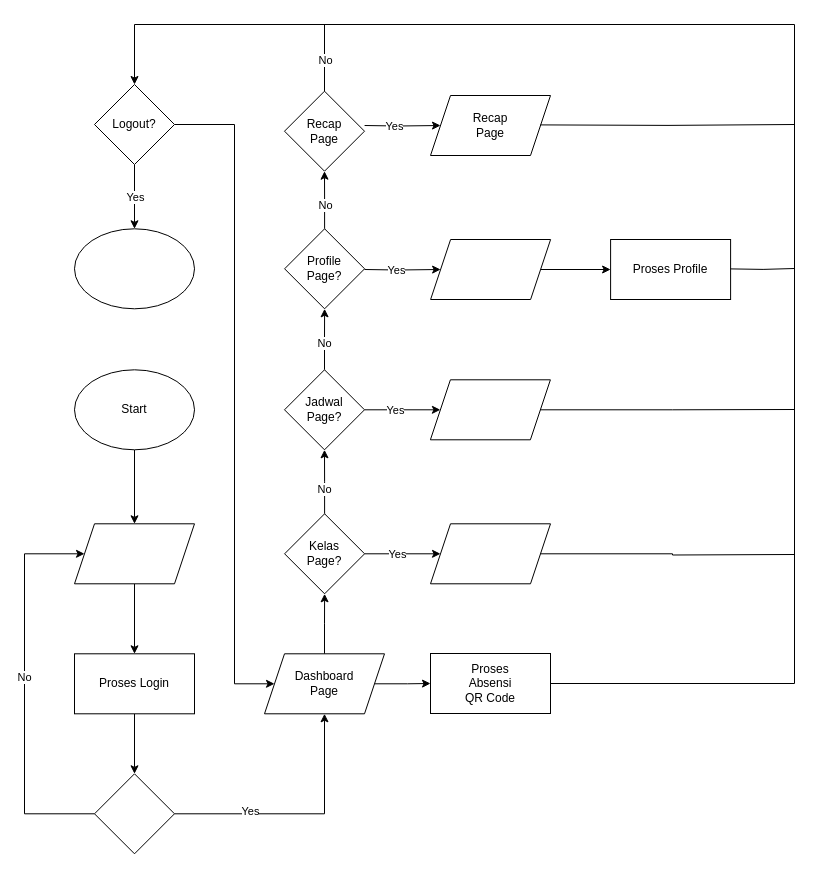
Some shapes in this 820 by 872 pixel diagram are drawn without their labels. Here are the shapes that lost their labels. From the top down, the centre of each, then its label:
the point at 134,268: Exit
the point at 490,269: Profile Page
the point at 489,409: User Page
the point at 134,553: Login Page
the point at 490,553: Kelas Page
the point at 134,813: Verified?
